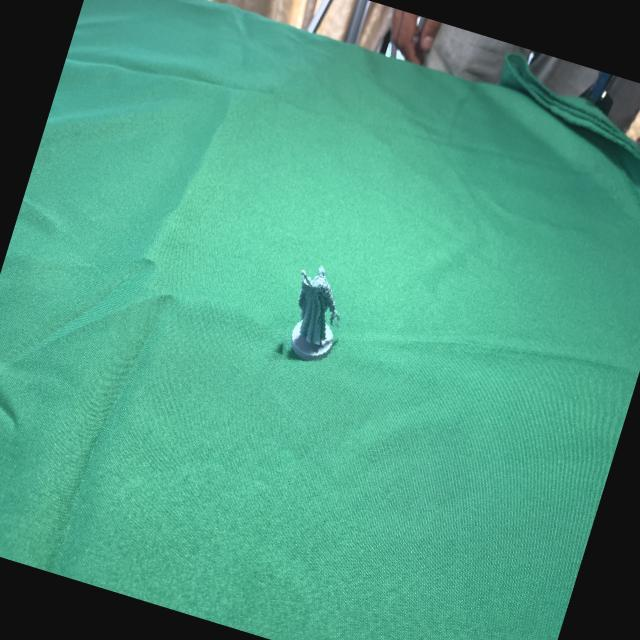isis_follower: (266, 254, 358, 370)
